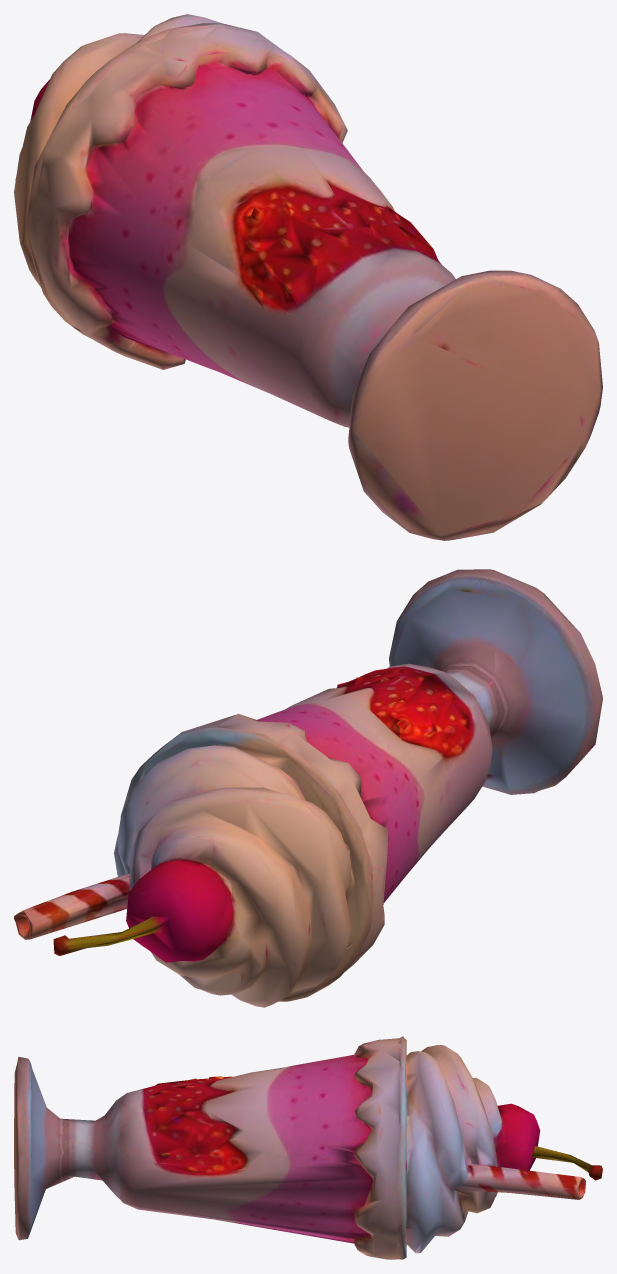
The picture shows the model from 3 angles, top to bottom: view 1: azimuth 30°, elevation 25°; view 2: azimuth 150°, elevation 25°; view 3: azimuth 270°, elevation 25°; orthographic projection. The views are drawn at different scales.
Visible parts, largest first — view 1: material; view 2: material; view 3: material.
Boxes of the visible parts, bbox=[...] form: material: bbox=[14, 14, 602, 540]; material: bbox=[14, 569, 602, 1007]; material: bbox=[14, 1036, 602, 1259].
Bounding box in the file's own units: 0.3786 × 0.3843 × 1.
1 material, 1 textured.
